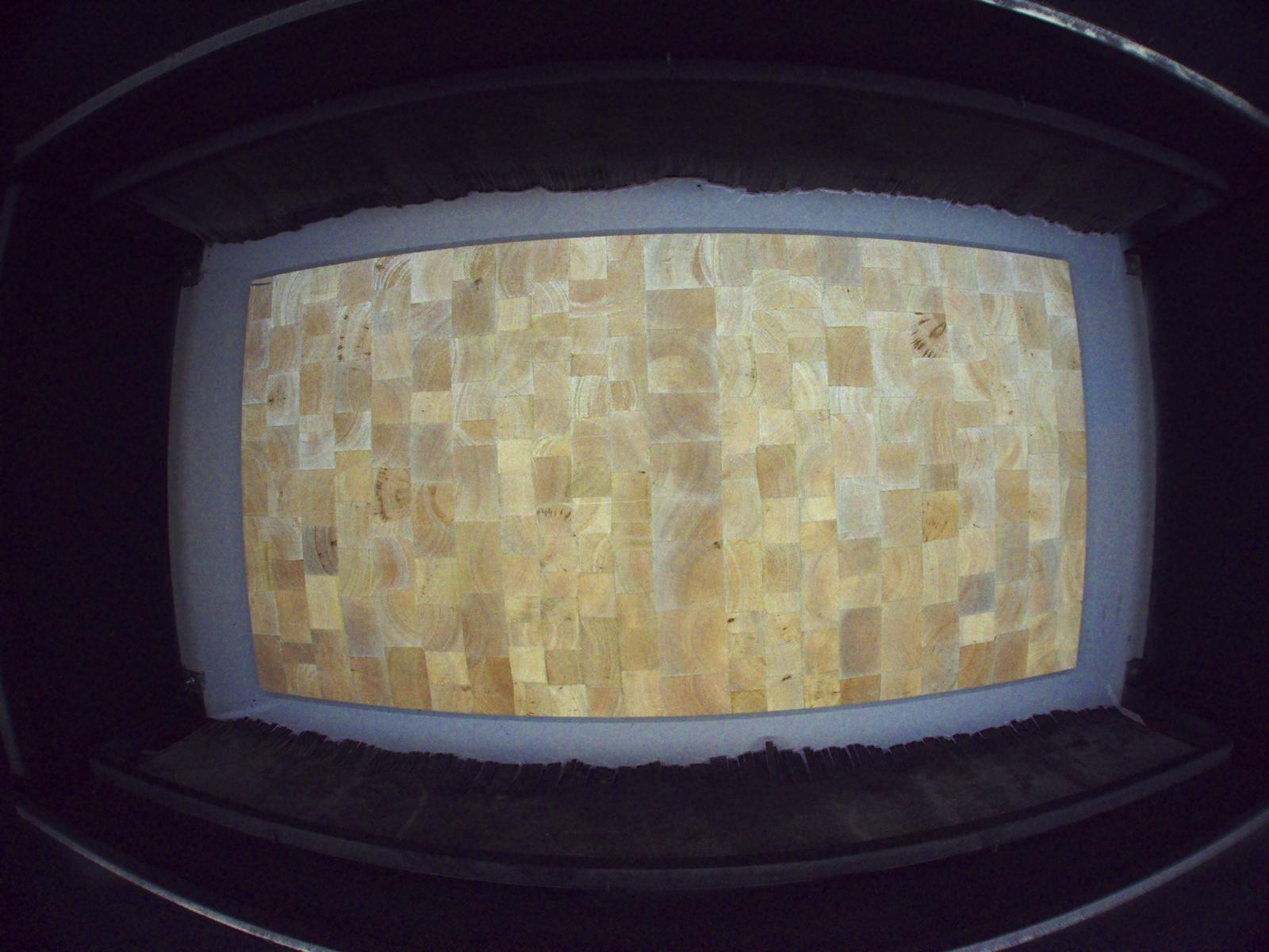sheck_ecuatoriano: (314, 526, 332, 575), (329, 527, 338, 553)
